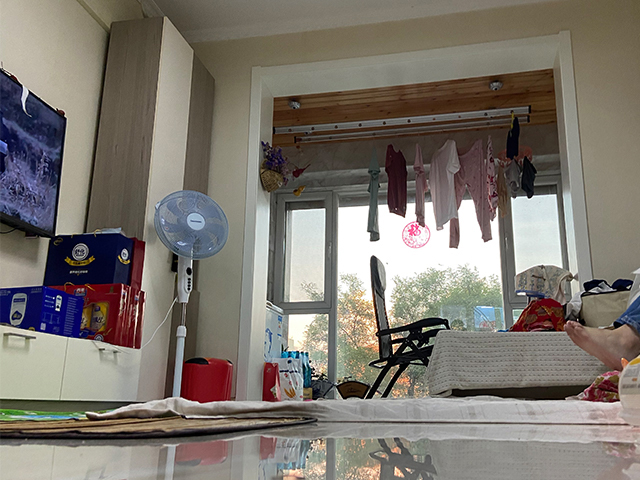cabinet: (1, 325, 141, 411)
sofa: (425, 328, 594, 398)
stool: (364, 255, 451, 400)
